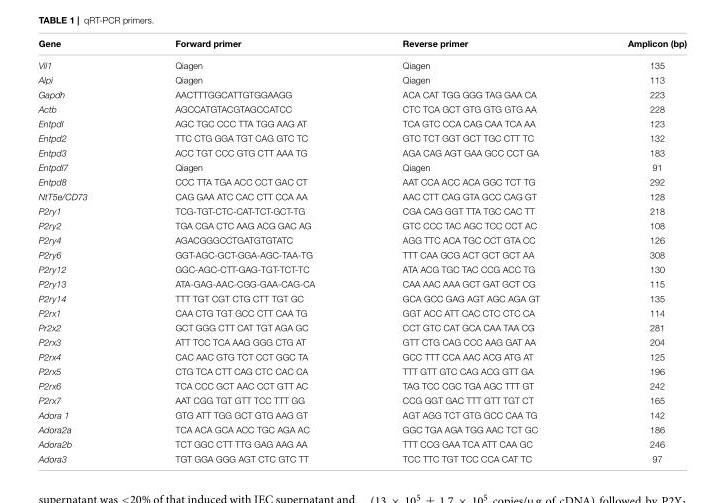table: (37, 37, 686, 463)
table column: (130, 37, 358, 463), (358, 37, 583, 463), (583, 37, 686, 463), (37, 37, 130, 463)
table column header: (37, 37, 686, 53)
table row: (37, 53, 686, 71), (37, 37, 686, 53), (37, 71, 686, 86), (37, 86, 686, 101), (37, 115, 686, 130), (37, 144, 686, 159), (37, 173, 686, 188), (37, 188, 686, 203), (37, 217, 686, 232), (37, 246, 686, 261), (37, 275, 686, 290), (37, 290, 686, 305), (37, 319, 686, 334), (37, 348, 686, 363), (37, 377, 686, 392), (37, 392, 686, 407), (37, 421, 686, 436), (37, 101, 686, 115), (37, 130, 686, 144), (37, 159, 686, 173), (37, 203, 686, 217), (37, 232, 686, 246), (37, 261, 686, 275), (37, 305, 686, 319), (37, 334, 686, 348), (37, 363, 686, 377), (37, 407, 686, 421), (37, 436, 686, 450), (37, 450, 686, 463)
